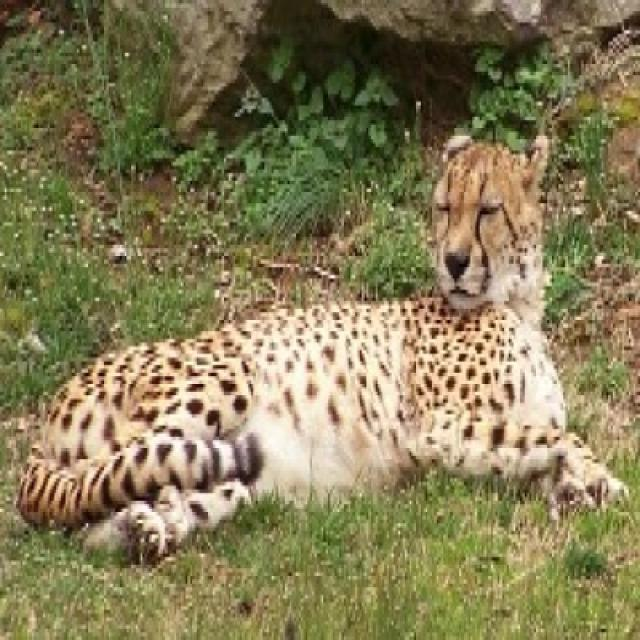Cheetah: (14, 136, 629, 570)
